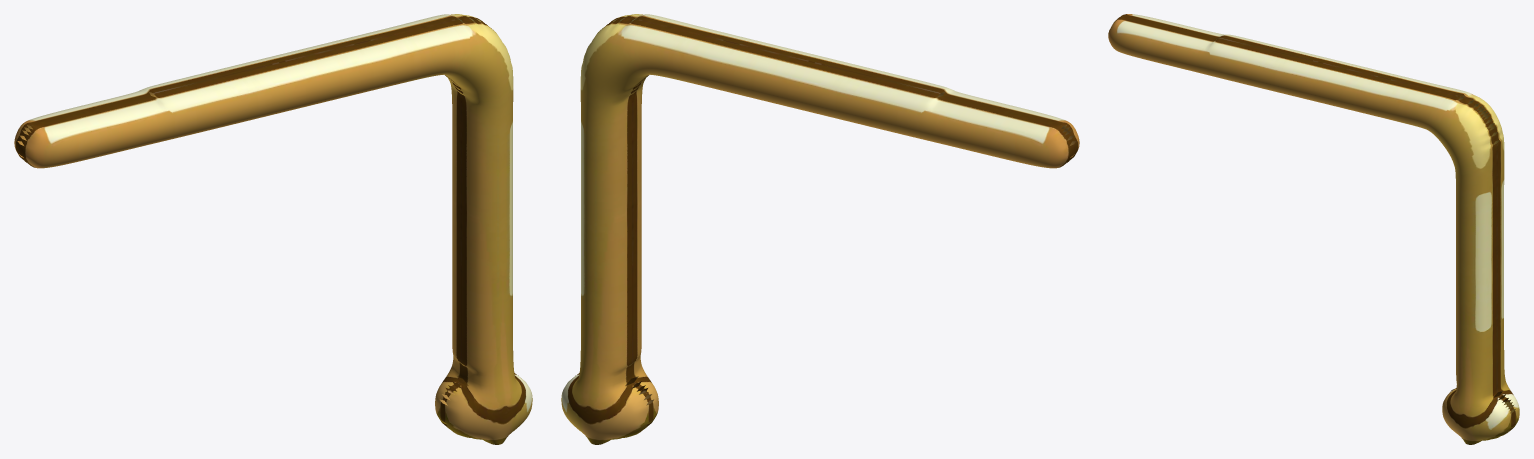
The model's file is west_pipe.glb.
The picture shows the model from 3 angles, left to right: view 1: azimuth 30°, elevation 25°; view 2: azimuth 150°, elevation 25°; view 3: azimuth 330°, elevation 25°; orthographic projection. The views are drawn at different scales.
Parts seen in each view (by area): view 1: west_pipe; view 2: west_pipe; view 3: west_pipe.
Part boxes in pixels (x1,y1,x2,y2): west_pipe: (14, 14, 532, 444); west_pipe: (561, 14, 1079, 444); west_pipe: (1108, 14, 1519, 444).
Bounding box in the file's own units: 0.989 × 0.7853 × 0.1462.
1 material, 1 textured.
